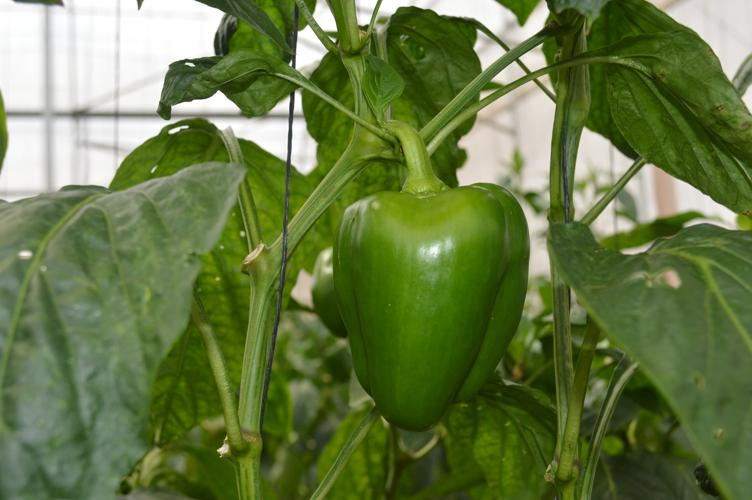BellPepper: (335, 184, 529, 425), (305, 247, 341, 343)
